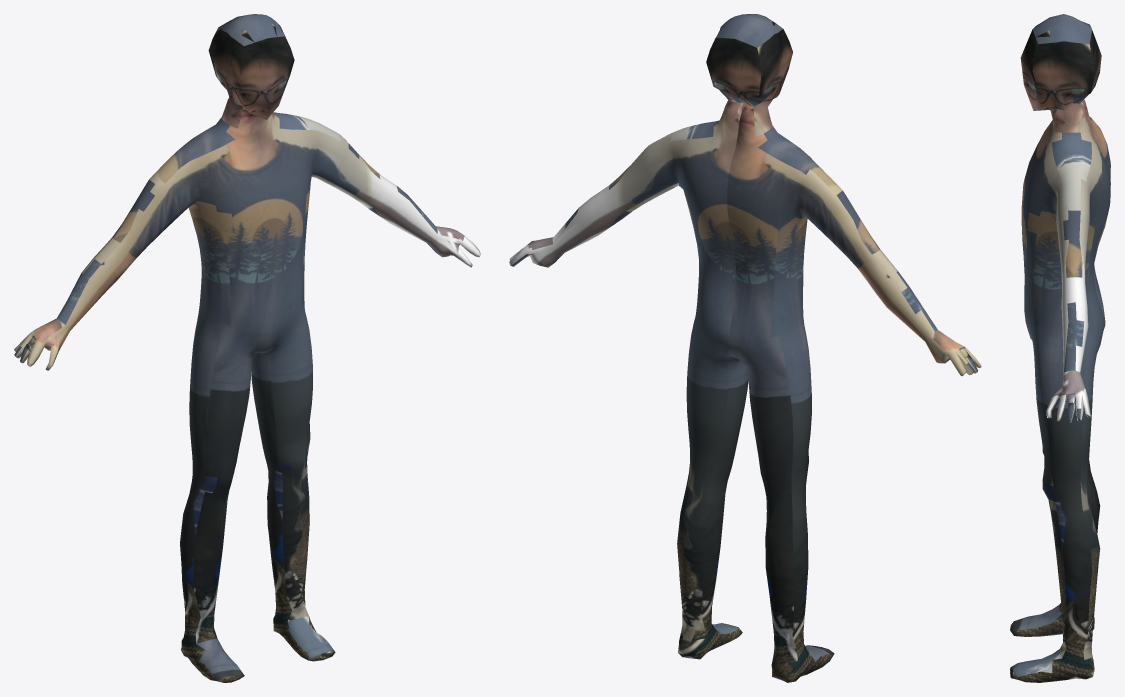
The picture shows the model from 3 angles, left to right: view 1: azimuth 30°, elevation 25°; view 2: azimuth 150°, elevation 25°; view 3: azimuth 270°, elevation 25°; orthographic projection.
Visible parts, largest first — view 1: Cube_Cube.001; view 2: Cube_Cube.001; view 3: Cube_Cube.001.
Boxes of the visible parts, x1,y1,x2,y2 form: Cube_Cube.001: (14,14,480,682); Cube_Cube.001: (509,14,981,682); Cube_Cube.001: (1010,14,1110,682).
Bounding box in the file's own units: 3.63 × 4.83 × 0.6923.
